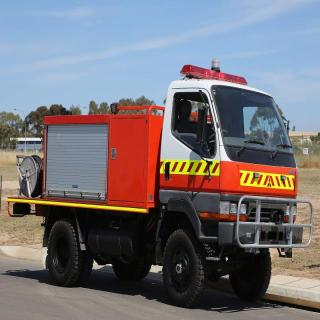Fire_truck: (7, 58, 313, 308)
